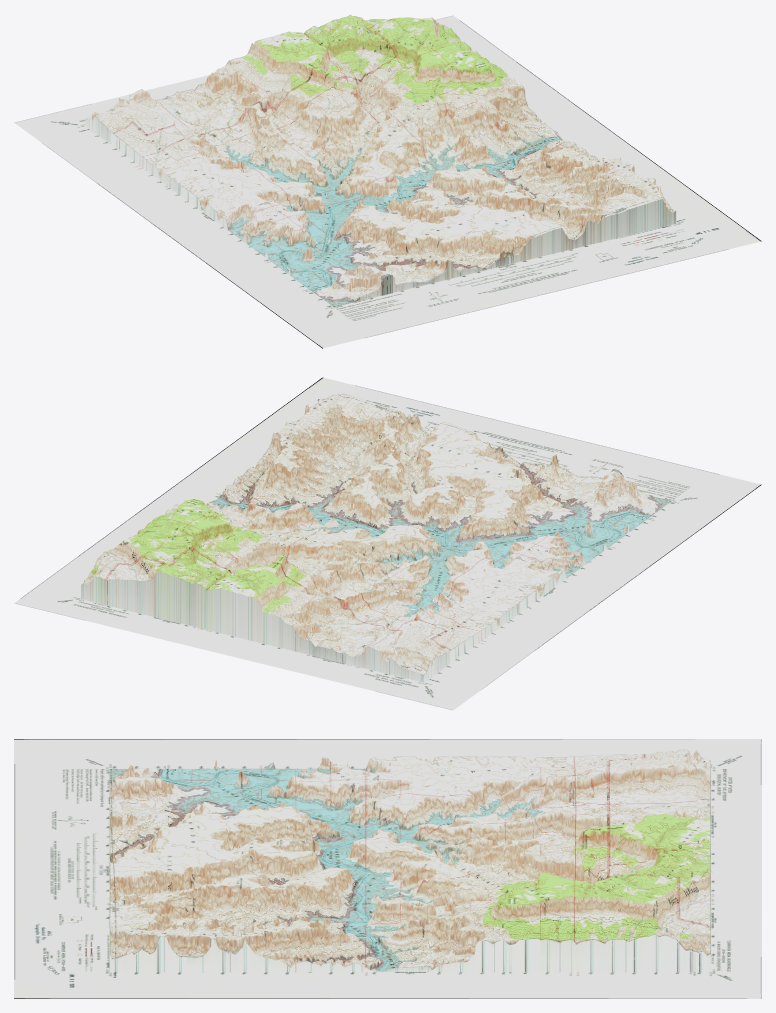
File: cummings.glb
The picture shows the model from 3 angles, top to bottom: view 1: azimuth 30°, elevation 25°; view 2: azimuth 150°, elevation 25°; view 3: azimuth 270°, elevation 25°; orthographic projection. The views are drawn at different scales.
Visible parts, largest first — view 1: Object_4; view 2: Object_4; view 3: Object_4.
Part boxes in pixels (box(x1,y1,x2,y2)): Object_4: box(14, 14, 761, 348); Object_4: box(14, 377, 761, 710); Object_4: box(14, 739, 761, 998).
Bounding box in the file's own units: 35736 × 3665 × 43471.
1 material, 1 textured.
